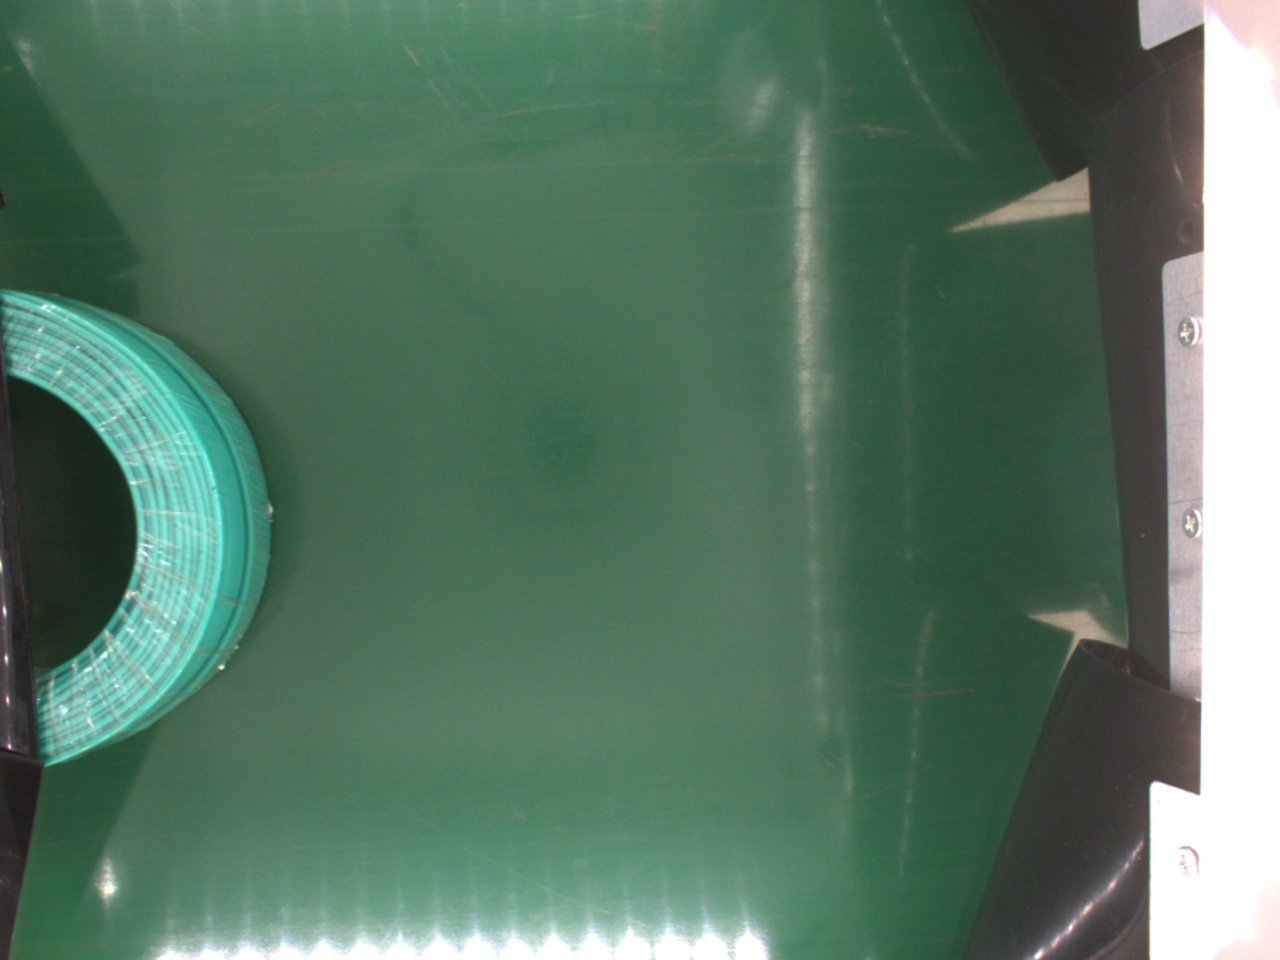green: (10, 288, 271, 767)
